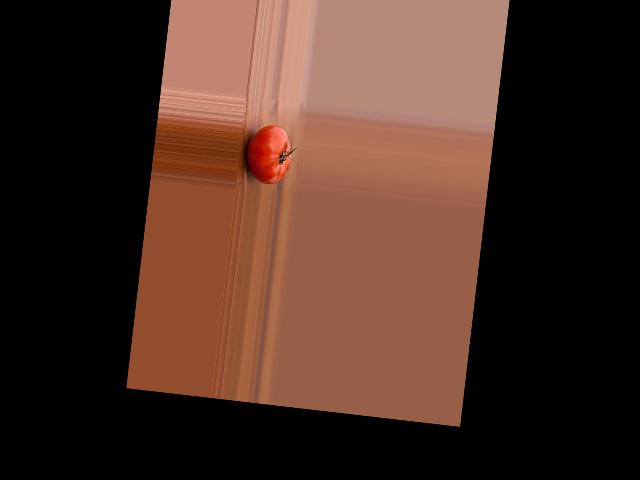tomato: (243, 122, 294, 185)
